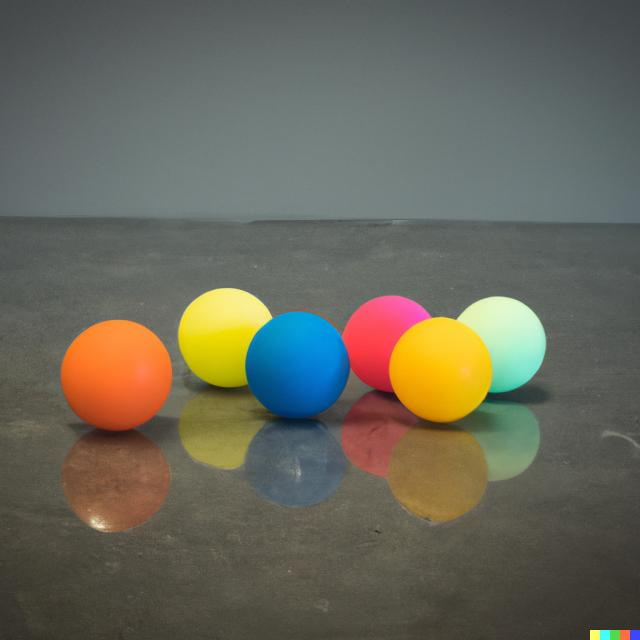blue-golf-balls: (246, 311, 350, 418)
green-golf-balls: (457, 296, 547, 393)
orange-golf-balls: (62, 320, 172, 430)
purple-pink-golf-balls: (345, 295, 433, 393)
yellow-golf-balls: (388, 317, 492, 423), (180, 289, 274, 387)
